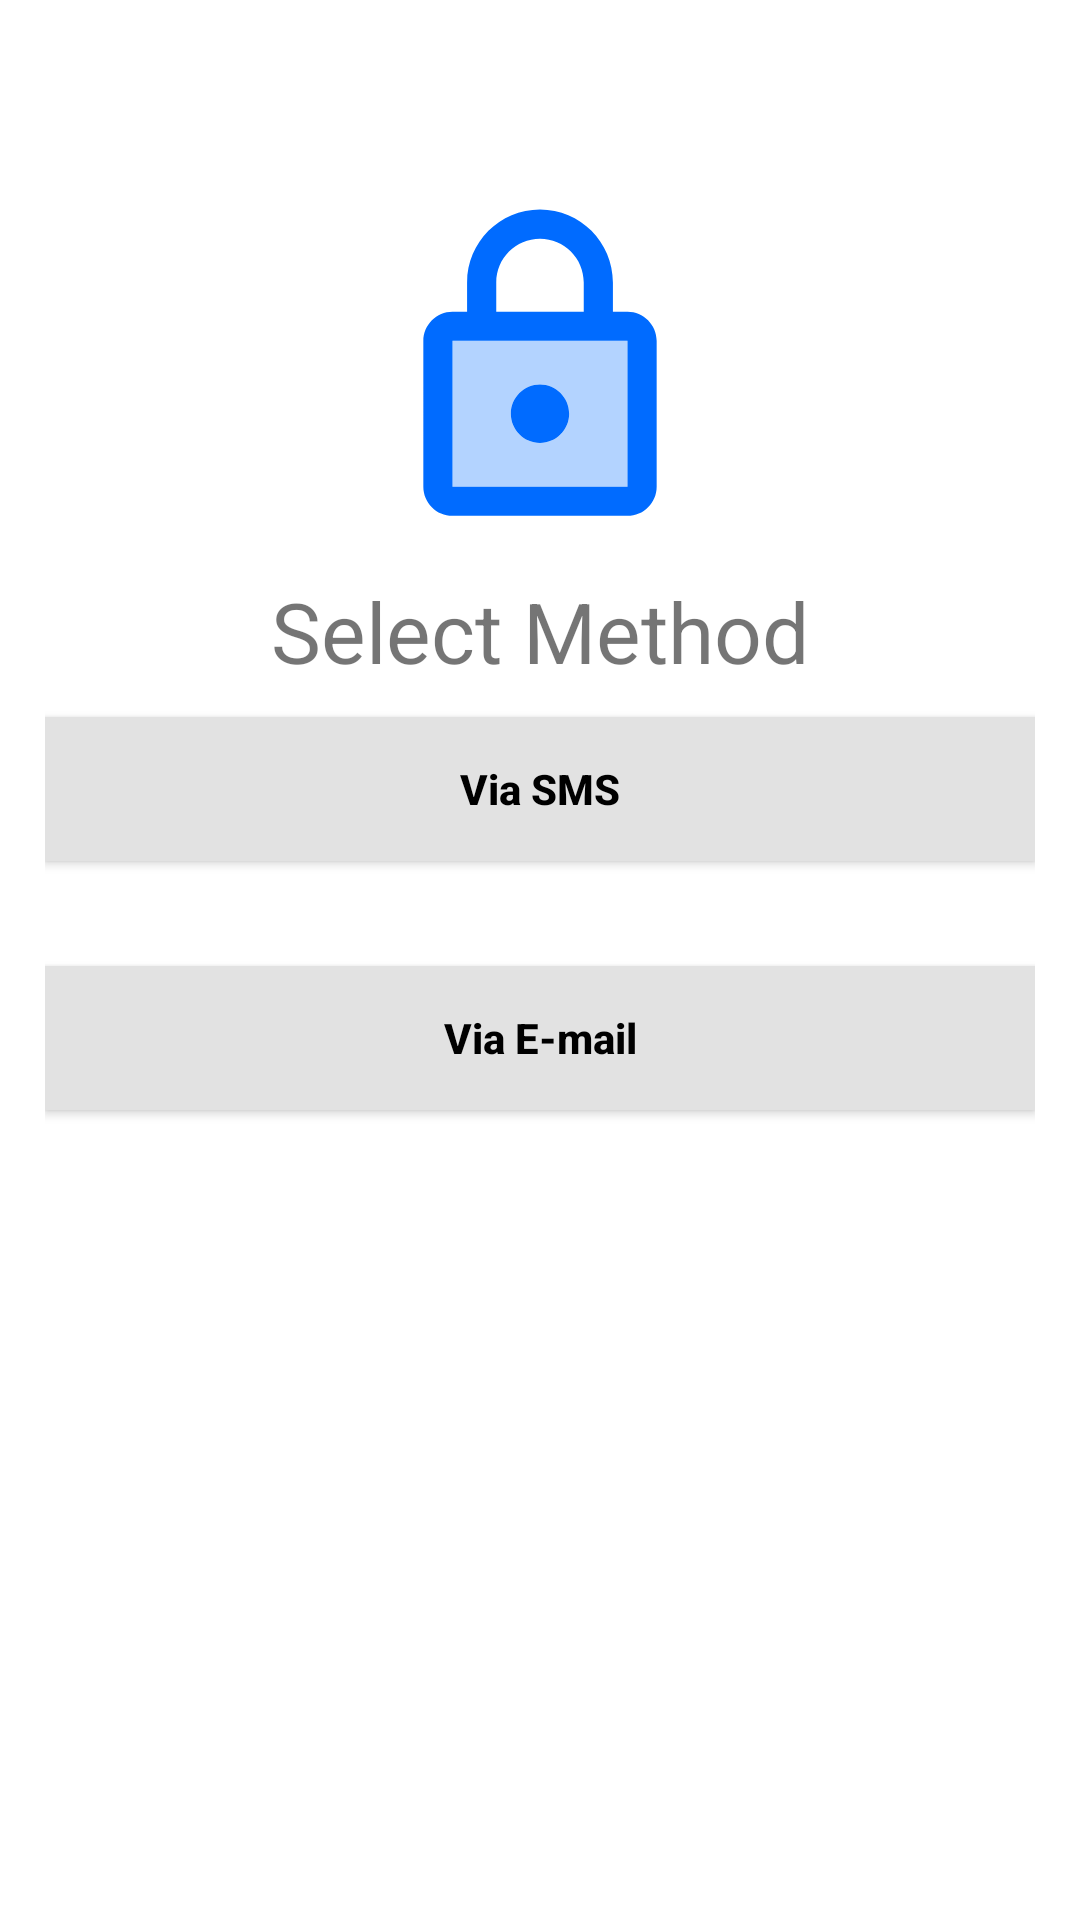

Where to tap for icons on this 1080*1920 app screen, as [x,y]:
password: [540,362]
